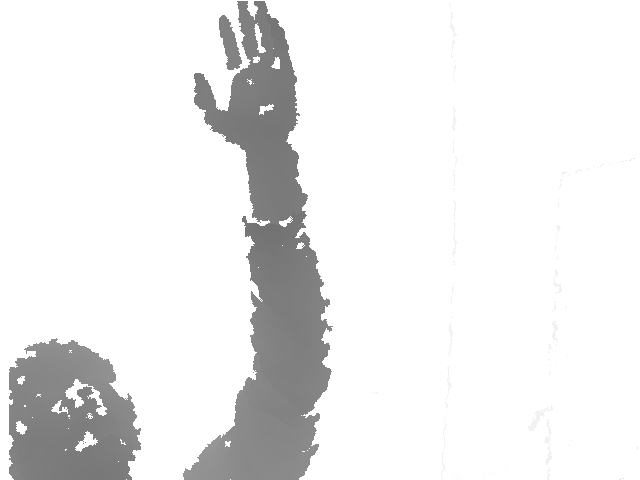hand: (190, 2, 301, 148)
head: (7, 336, 142, 479)
person: (7, 1, 335, 479)
